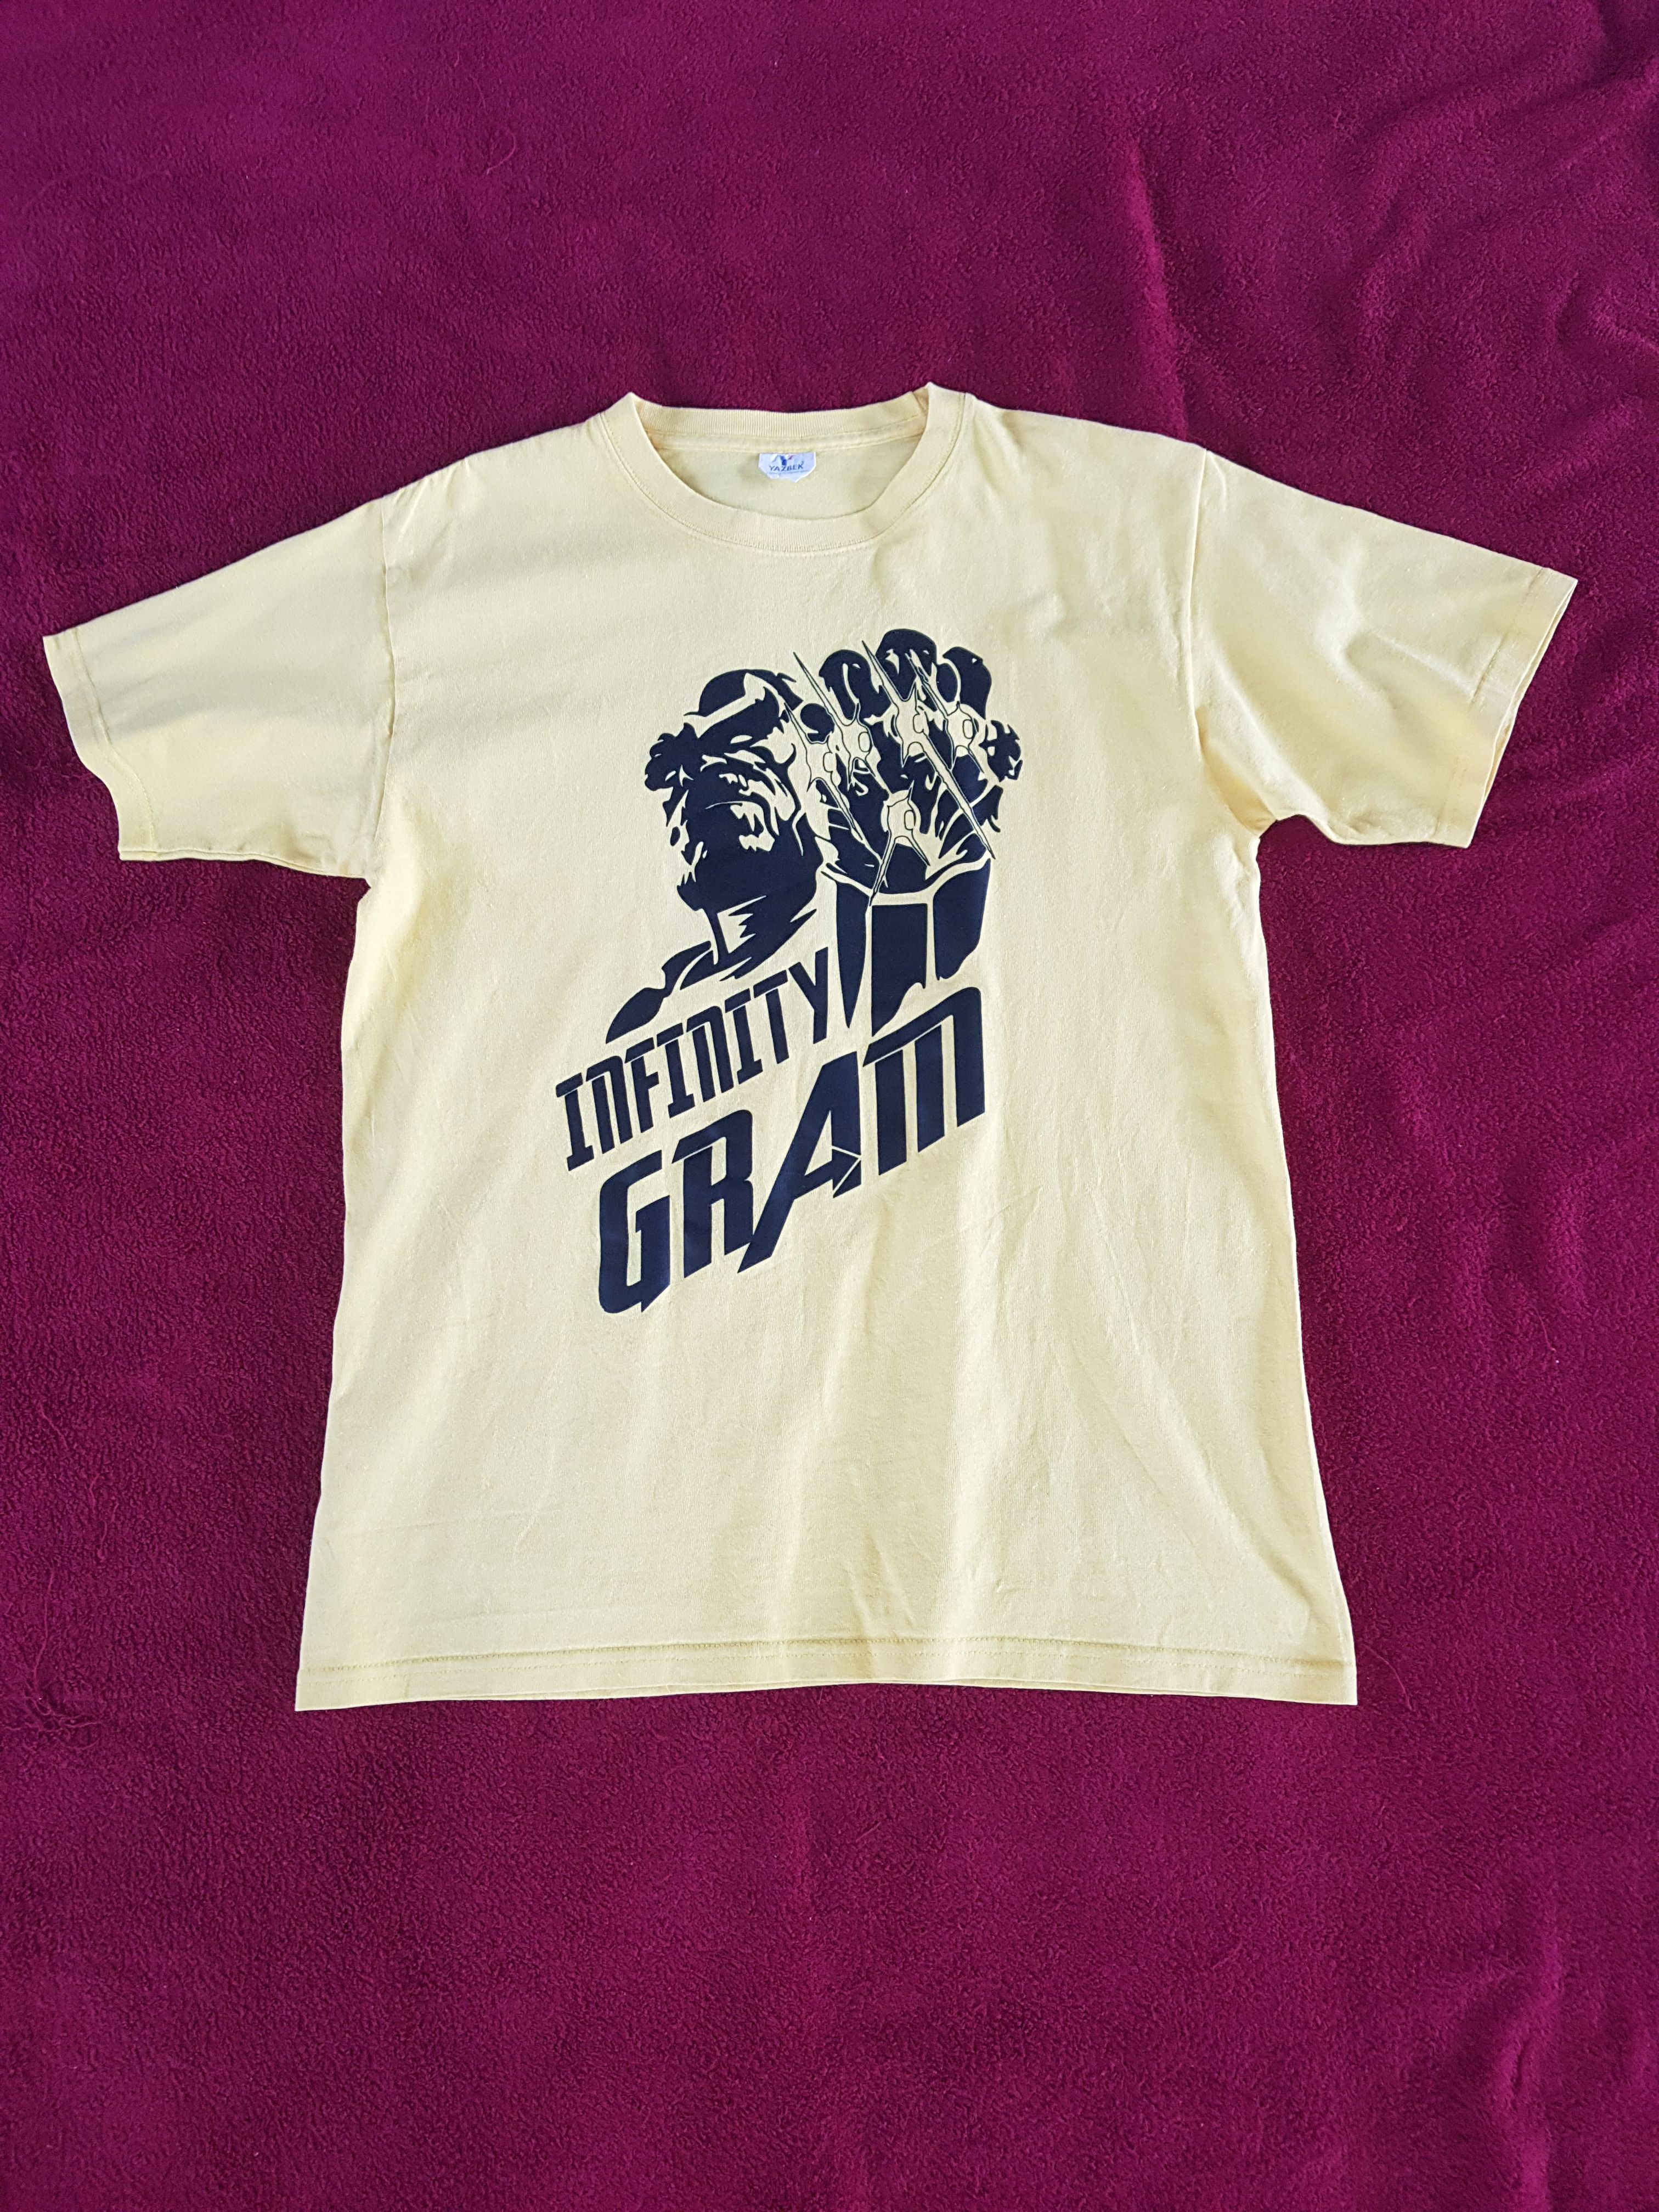clothes: (58, 387, 1584, 1707)
